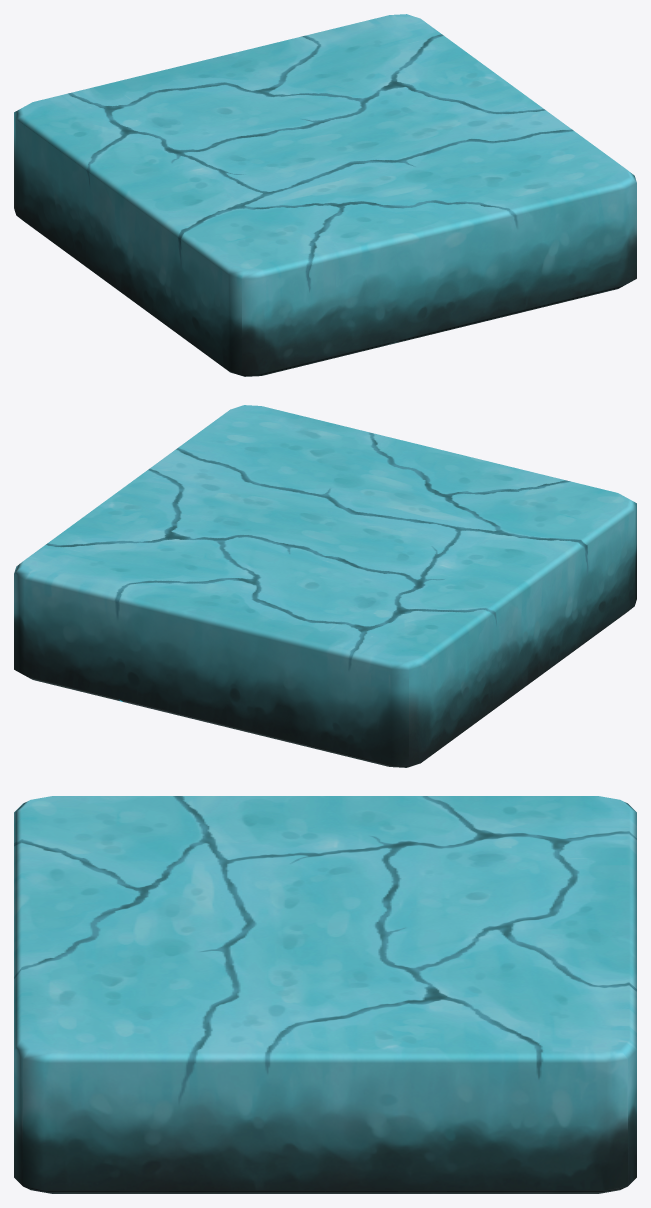
Rendered from panel_blue 1.fbx.
3 views of the same model, one above another, from view 1: azimuth 30°, elevation 25°; view 2: azimuth 150°, elevation 25°; view 3: azimuth 270°, elevation 25° (orthographic). The views are drawn at different scales.
Visible parts, largest first — view 1: Panel_blue; view 2: Panel_blue; view 3: Panel_blue.
Part boxes in pixels (x1,y1,x2,y2): Panel_blue: (14,14,636,376); Panel_blue: (14,405,636,767); Panel_blue: (14,796,636,1193).
Bounding box in the file's own units: 100 × 25 × 100.
1 material, 1 textured.
